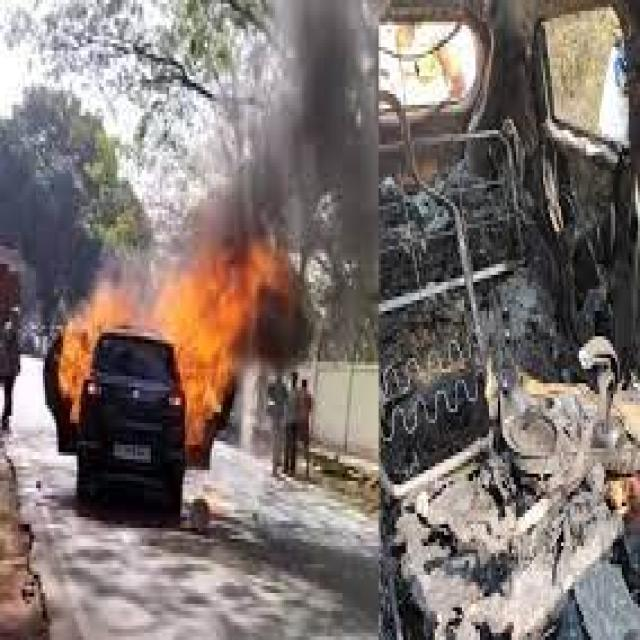fire: (155, 235, 293, 448), (50, 289, 130, 423)
smoke: (189, 4, 379, 235)
